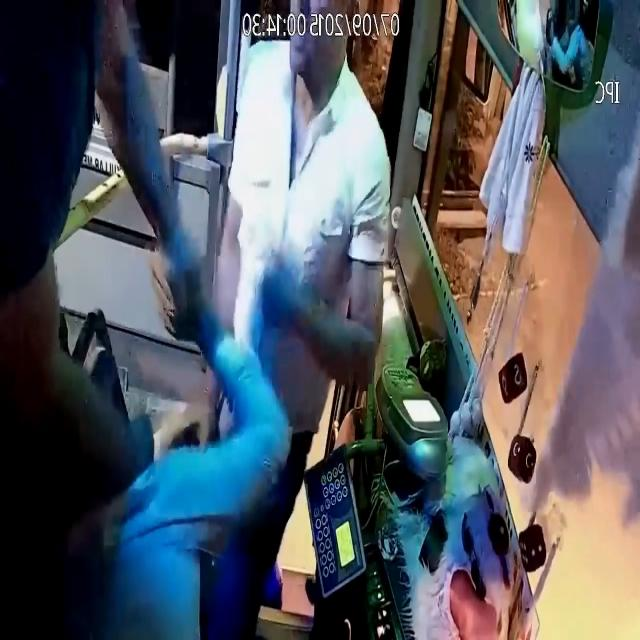fight: (0, 0, 298, 640)
